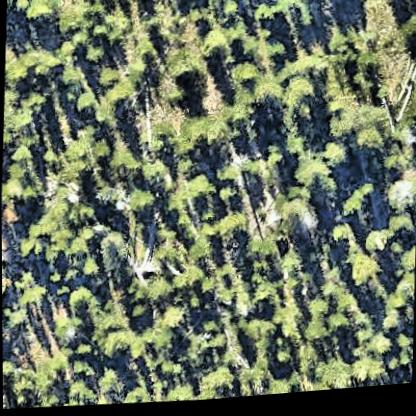tree-top: (16, 31, 66, 84), (182, 111, 235, 160), (96, 0, 136, 53), (362, 0, 406, 48), (297, 150, 342, 195), (348, 119, 391, 166), (283, 70, 323, 120), (53, 0, 99, 39), (344, 252, 383, 297), (380, 174, 416, 222), (246, 71, 287, 112), (317, 356, 359, 396), (195, 364, 238, 402), (368, 0, 416, 34), (350, 354, 389, 393), (100, 326, 137, 365), (43, 186, 74, 231), (168, 58, 204, 94), (247, 281, 282, 318), (340, 189, 375, 224), (157, 301, 191, 336), (329, 39, 361, 76), (224, 25, 259, 58), (139, 157, 172, 191), (177, 262, 206, 300), (180, 178, 213, 211), (361, 231, 395, 263), (24, 0, 65, 26), (144, 278, 178, 309), (322, 142, 353, 175), (36, 356, 67, 389), (45, 227, 76, 260), (65, 380, 101, 408), (228, 61, 262, 90), (127, 184, 158, 215), (278, 0, 310, 30), (302, 322, 333, 352), (185, 236, 215, 267), (155, 239, 185, 270), (326, 223, 355, 254), (243, 323, 272, 354), (197, 31, 228, 60), (58, 158, 89, 187), (10, 106, 37, 139), (94, 62, 124, 91), (52, 314, 82, 343), (243, 239, 277, 264), (369, 334, 398, 363), (141, 329, 170, 358), (14, 233, 44, 261), (86, 102, 117, 129), (238, 161, 265, 192), (66, 284, 91, 316), (217, 212, 244, 241), (116, 386, 153, 407), (166, 382, 200, 404), (23, 89, 51, 115), (277, 205, 306, 230), (75, 85, 101, 111), (251, 3, 276, 30), (264, 378, 296, 399), (270, 347, 293, 376), (358, 56, 381, 85), (307, 295, 332, 320), (4, 304, 28, 330), (83, 43, 108, 67), (79, 258, 104, 282), (20, 285, 45, 309), (67, 237, 90, 263), (70, 356, 97, 378), (398, 248, 415, 282), (2, 355, 15, 399), (198, 280, 220, 306), (327, 315, 350, 339), (156, 360, 179, 384), (166, 84, 189, 108), (7, 141, 31, 164), (218, 184, 240, 209), (201, 335, 226, 357), (2, 175, 21, 203), (198, 319, 221, 341), (90, 140, 111, 163), (127, 301, 148, 324), (377, 0, 416, 12), (70, 338, 92, 359), (4, 158, 25, 180), (396, 334, 413, 360), (380, 317, 402, 337), (220, 3, 241, 23), (78, 226, 99, 246), (11, 390, 32, 408), (382, 358, 399, 380), (385, 300, 408, 316), (21, 184, 39, 204), (404, 25, 416, 54), (193, 224, 212, 242), (397, 360, 412, 382), (64, 262, 81, 281), (197, 209, 217, 225), (49, 269, 64, 285), (206, 0, 229, 8), (400, 387, 411, 390)
